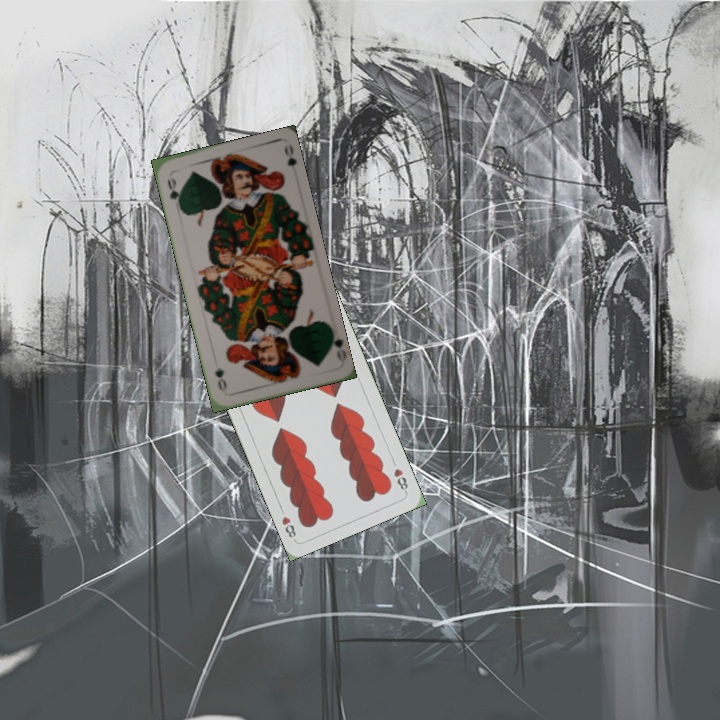GO: (325, 325, 345, 364), (163, 173, 183, 210)
H8: (390, 464, 410, 495)
